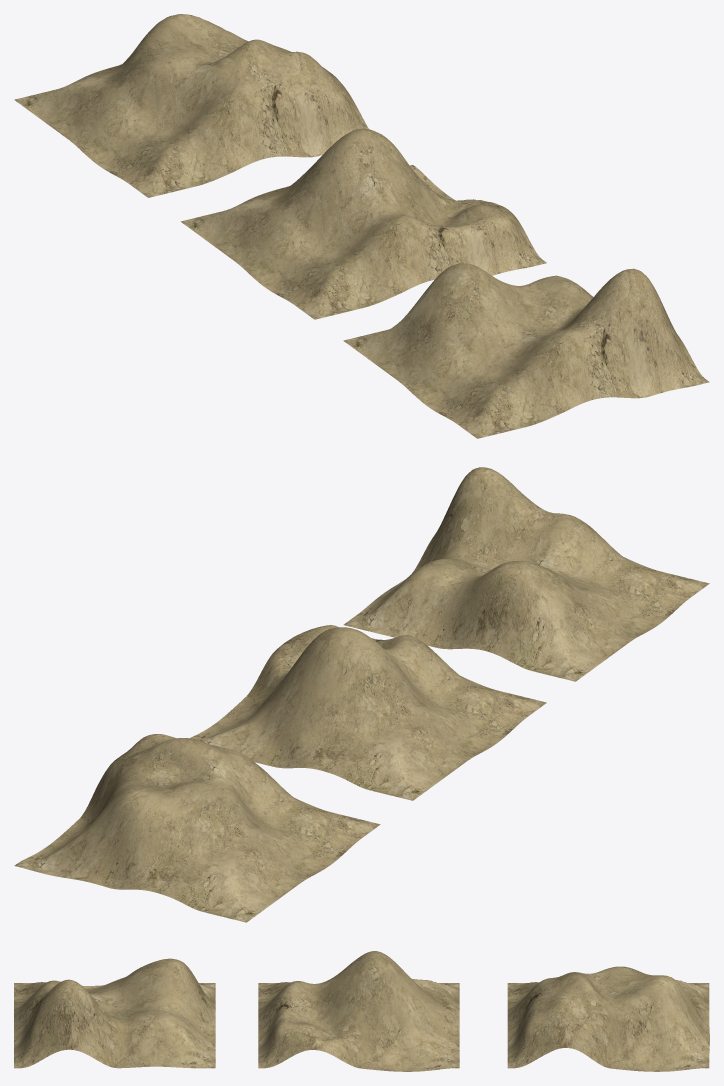
The model's file is Sand Dunes.fbx.
3 renders of one model, top to bottom at view 1: azimuth 30°, elevation 25°; view 2: azimuth 150°, elevation 25°; view 3: azimuth 270°, elevation 25°, orthographic. The views are drawn at different scales.
Parts seen in each view (by area): view 1: Plane, Plane.002, Plane.001; view 2: Plane, Plane.002, Plane.001; view 3: Plane.001, Plane.002, Plane.
Boxes of the visible parts, x1,y1,x2,y2 form: Plane: (343,263,709,438); Plane.002: (14,14,368,197); Plane.001: (180,128,546,319); Plane: (343,467,709,681); Plane.002: (14,734,380,922); Plane.001: (190,625,546,800); Plane.001: (258,951,459,1071); Plane.002: (507,966,709,1071); Plane: (14,958,215,1068).
Size of the model in its own units: 4000 by 1737 by 13814.
